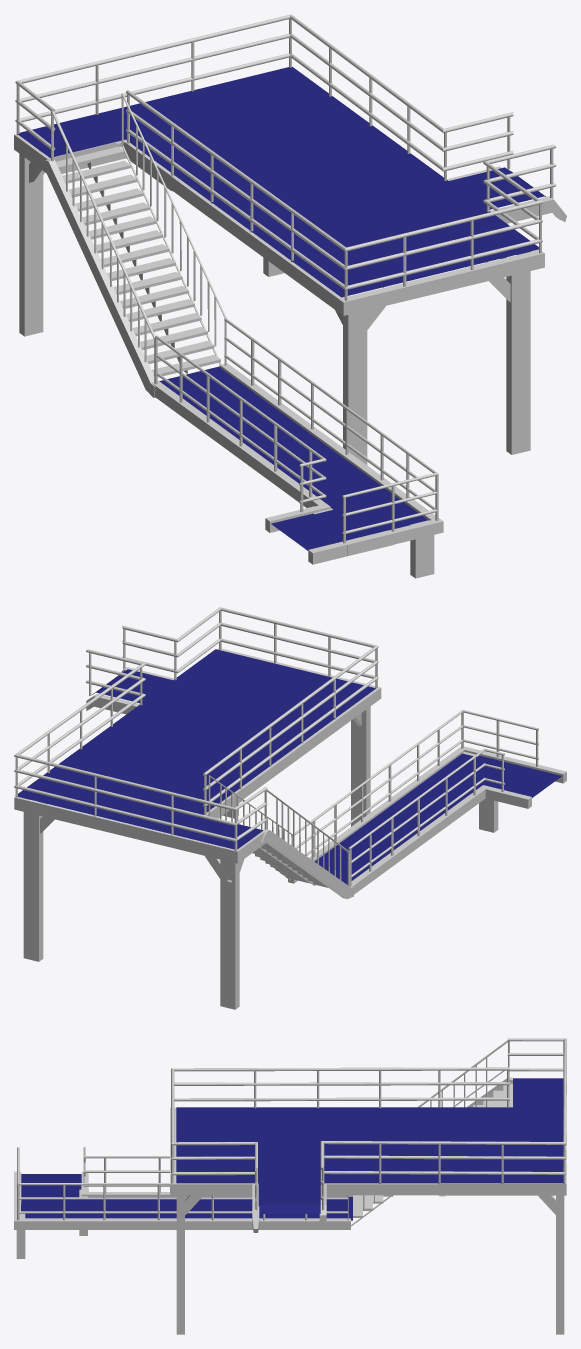
The model's file is Stairs_platform_v3.FBX.
3 renders of one model, top to bottom at view 1: azimuth 30°, elevation 25°; view 2: azimuth 150°, elevation 25°; view 3: azimuth 270°, elevation 25°, orthographic. The views are drawn at different scales.
Visible parts, largest first — view 1: Group001, Line13128; view 2: Line13128, Group001; view 3: Group001, Line13128.
Part boxes in pixels (<box>): Group001: <box>17,66,545,550</box>; Line13128: <box>14,14,566,578</box>; Line13128: <box>14,607,566,1009</box>; Group001: <box>17,649,561,887</box>; Group001: <box>21,1078,564,1220</box>; Line13128: <box>14,1038,566,1334</box>.
Size of the model in its own units: 873 by 515 by 1315.
